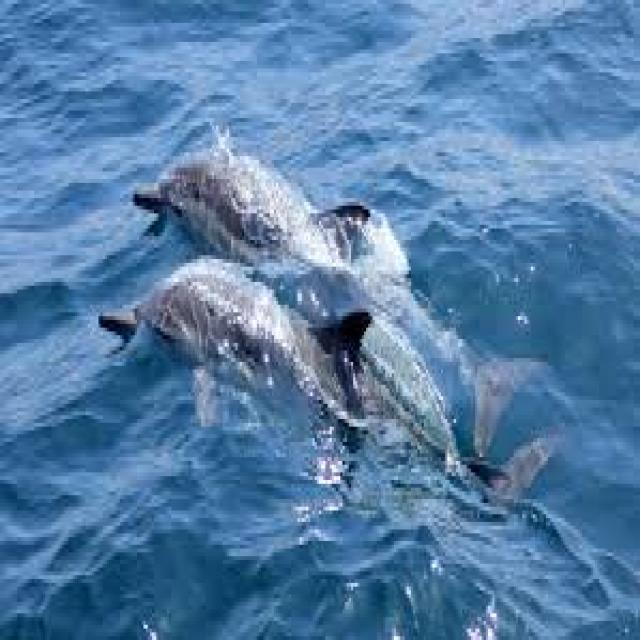dolphin: (118, 270, 548, 610), (145, 118, 538, 434)
